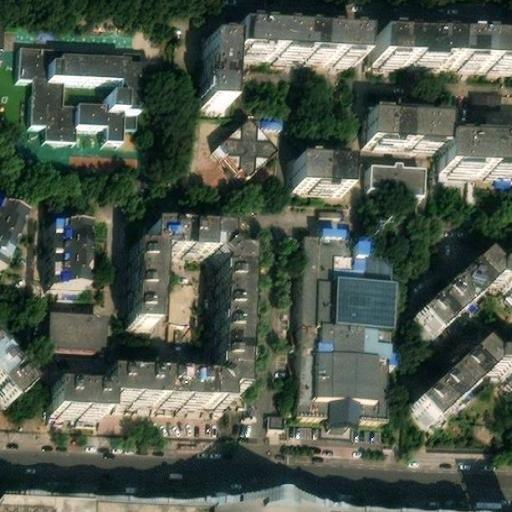building: (106, 266, 246, 407), (299, 227, 399, 414), (19, 38, 153, 138), (130, 225, 247, 328), (410, 237, 512, 326), (415, 340, 512, 423), (373, 33, 512, 66), (228, 28, 358, 61), (217, 112, 279, 173), (365, 107, 446, 146), (48, 303, 108, 347), (213, 490, 332, 512), (48, 218, 87, 284), (444, 128, 512, 162), (0, 493, 117, 512), (364, 162, 427, 197), (199, 37, 229, 104), (0, 194, 27, 266), (48, 387, 106, 417), (294, 152, 348, 184), (0, 343, 30, 394), (265, 412, 285, 430), (263, 112, 283, 123), (0, 13, 4, 44)
